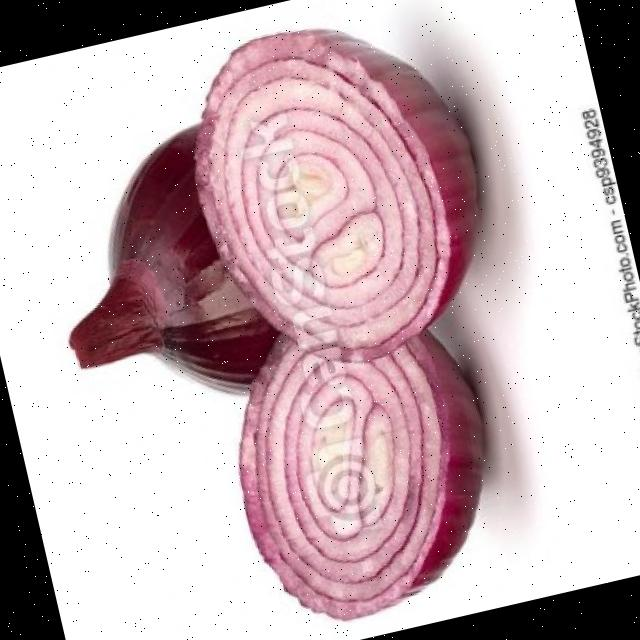Onion: (69, 124, 278, 393)
